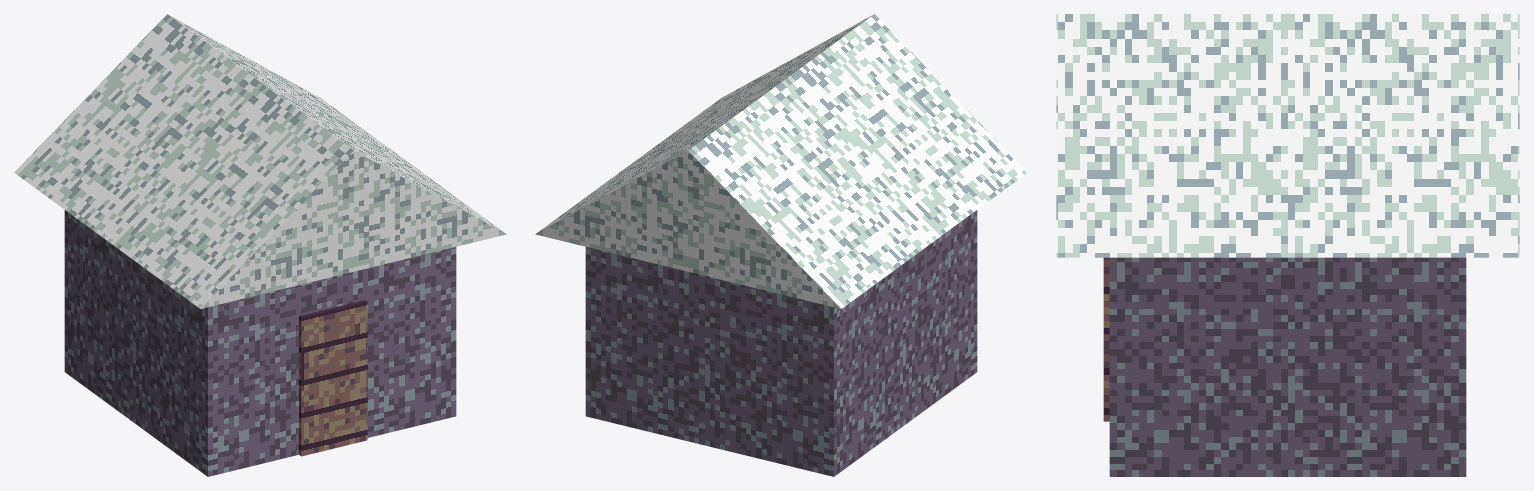
The model's file is mosteiro_aurora_cela.glb.
3 renders of one model, left to right at view 1: azimuth 30°, elevation 25°; view 2: azimuth 150°, elevation 25°; view 3: azimuth 270°, elevation 25°, orthographic. The views are drawn at different scales.
Parts seen in each view (by area): view 1: mosteiro_aurora_cela; view 2: mosteiro_aurora_cela; view 3: mosteiro_aurora_cela.
Boxes of the visible parts, left/top/right/bottom form: mosteiro_aurora_cela: left=14, top=14, right=506, bottom=476; mosteiro_aurora_cela: left=535, top=14, right=1027, bottom=476; mosteiro_aurora_cela: left=1056, top=14, right=1519, bottom=476.
Bounding box in the file's own units: 3.7 × 3.6 × 3.9.
3 materials, 3 textured.
